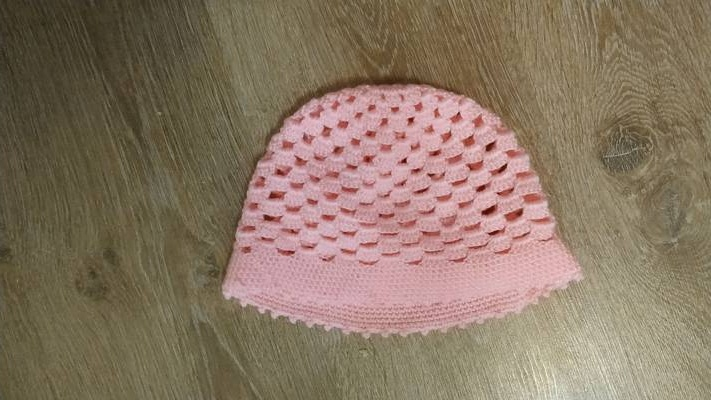Hat: (200, 38, 592, 349)
